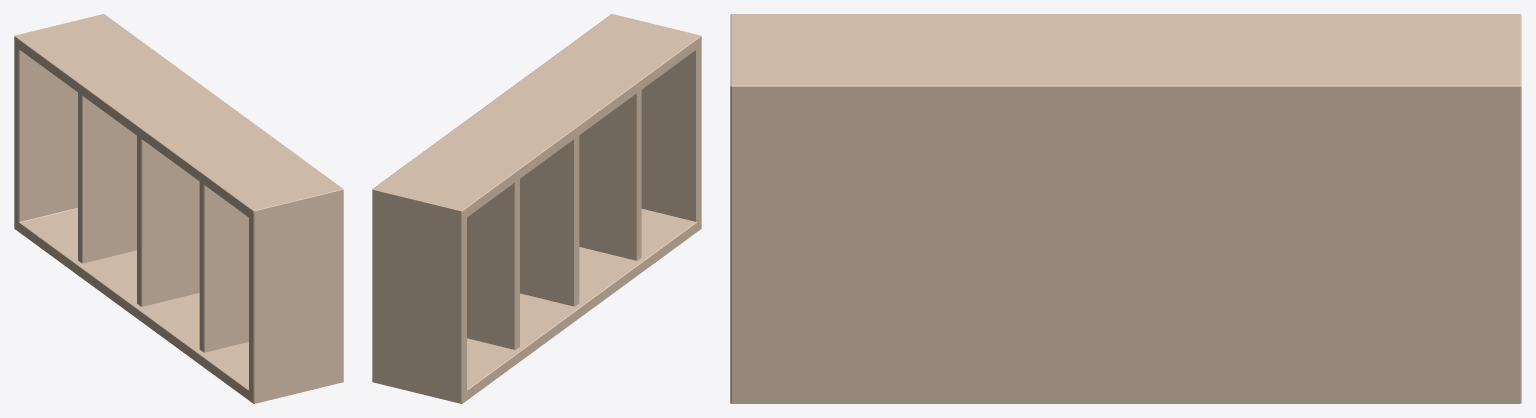
File: BookCase.fbx
3 views of the same model, side by side, from view 1: azimuth 30°, elevation 25°; view 2: azimuth 150°, elevation 25°; view 3: azimuth 270°, elevation 25° (orthographic). The views are drawn at different scales.
Parts seen in each view (by area): view 1: BookCase; view 2: BookCase; view 3: BookCase.
Boxes of the visible parts, x1=… form: BookCase: x1=14, y1=14, x2=343, y2=403; BookCase: x1=372, y1=14, x2=701, y2=403; BookCase: x1=730, y1=14, x2=1521, y2=403.
Size of the model in its own units: 2 by 0.8884 by 0.4343.
